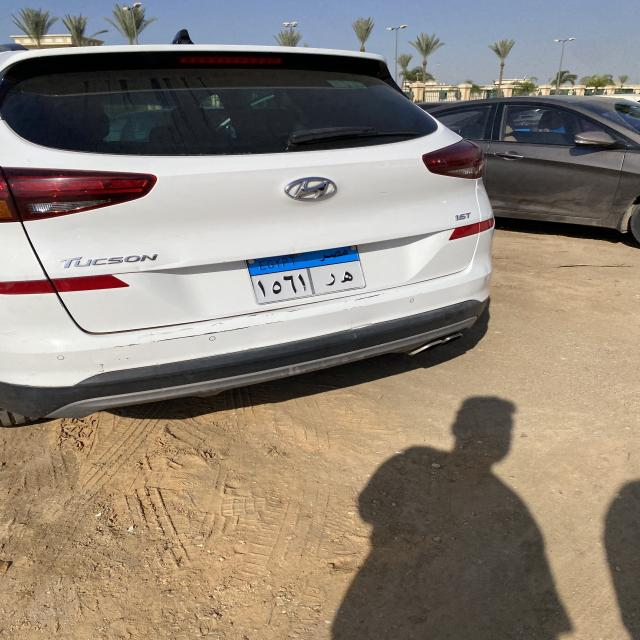License Plate: (245, 245, 367, 305)
